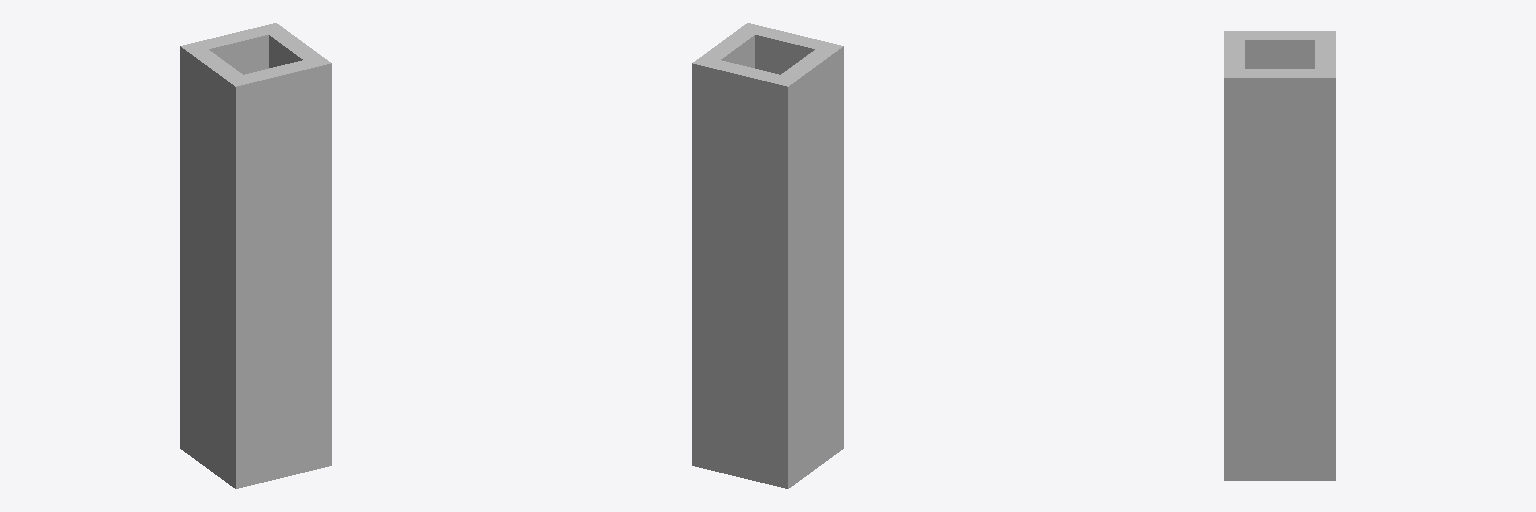
Rendered from HOLE_SQUARE.obj.
3 views of the same model, side by side, from view 1: azimuth 30°, elevation 25°; view 2: azimuth 150°, elevation 25°; view 3: azimuth 270°, elevation 25° (orthographic).
Visible parts, largest first — view 1: Cube.001; view 2: Cube.001; view 3: Cube.001.
Part boxes in pixels (x1,y1,x2,y2): Cube.001: (180, 23, 331, 488); Cube.001: (692, 23, 843, 488); Cube.001: (1224, 31, 1335, 480).
Size of the model in its own units: 2 by 8 by 2.